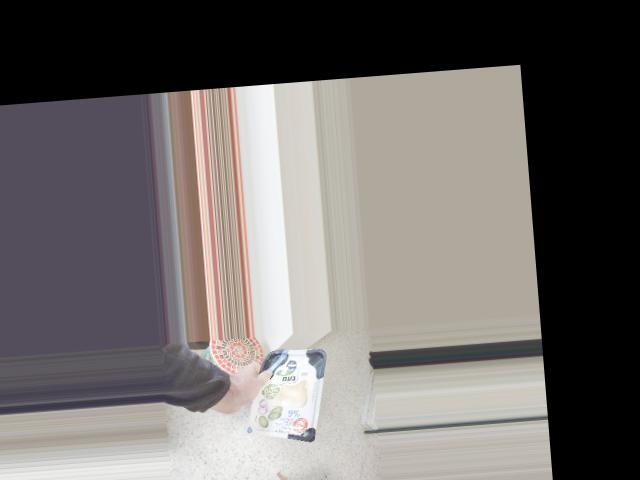cheese: (249, 340, 325, 447)
